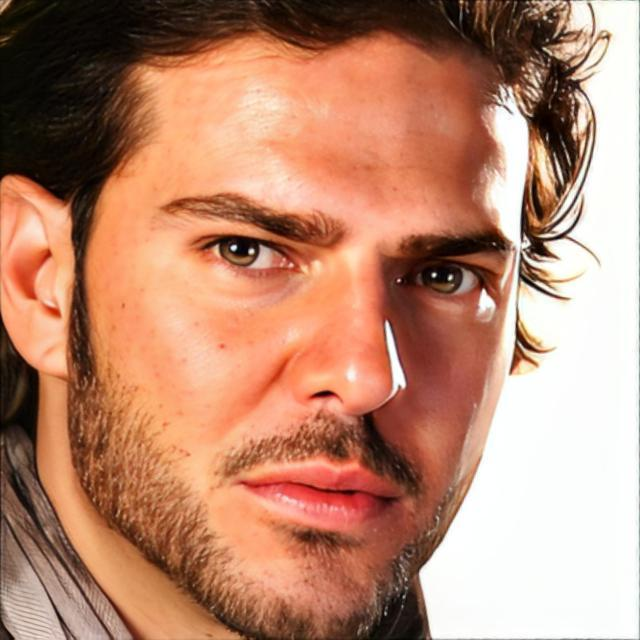anger: (80, 52, 522, 640)
